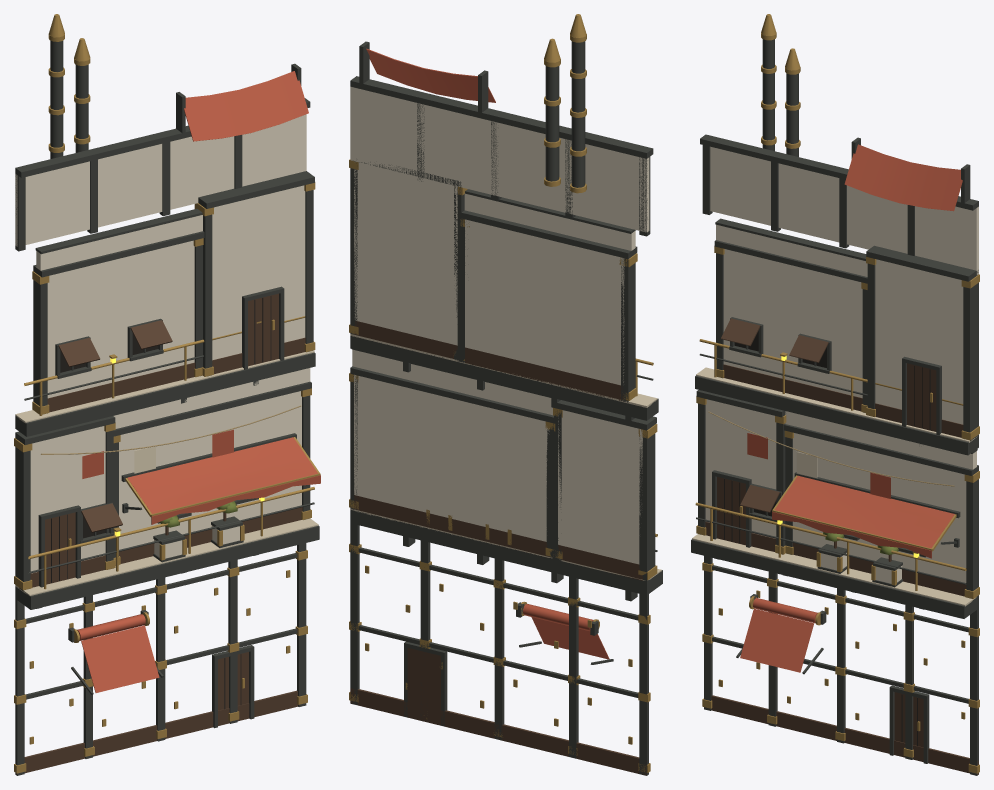
Rendered from terrace_c.glb.
3 views of the same model, side by side, from view 1: azimuth 30°, elevation 25°; view 2: azimuth 150°, elevation 25°; view 3: azimuth 330°, elevation 25° (orthographic). The views are drawn at different scales.
Visible parts, largest first — view 1: terrace_c; view 2: terrace_c; view 3: terrace_c.
Boxes of the visible parts, bbox=[...] form: terrace_c: bbox=[14, 14, 320, 775]; terrace_c: bbox=[349, 14, 662, 775]; terrace_c: bbox=[691, 14, 979, 775].
Bounding box in the file's own units: 8.06 × 19.5 × 2.39.
